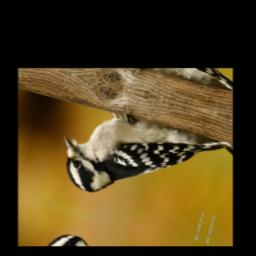Woodpecker: (53, 94, 228, 225)
